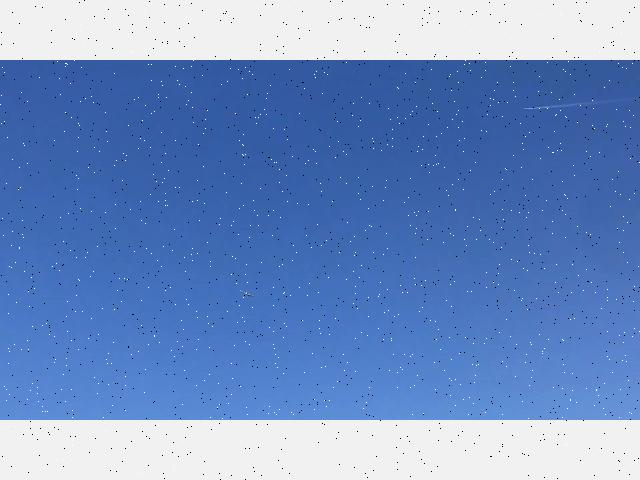Anti-Drone: (227, 282, 265, 302)
